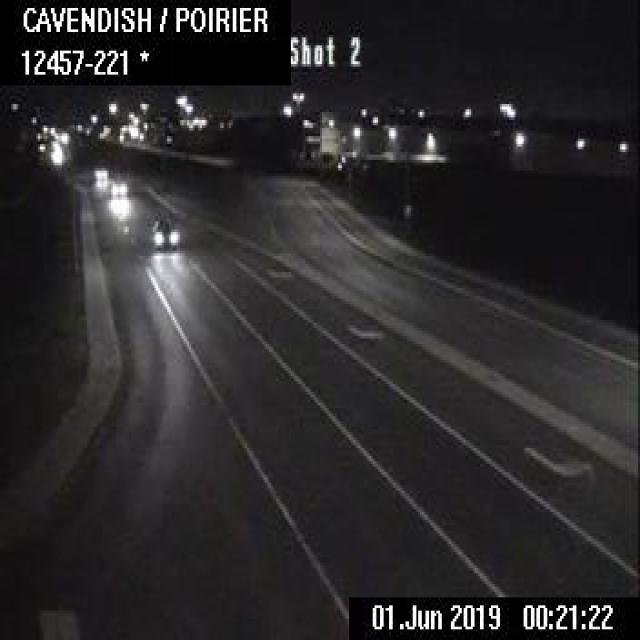vehicle: (150, 214, 178, 247), (109, 177, 128, 195), (93, 165, 106, 178)
